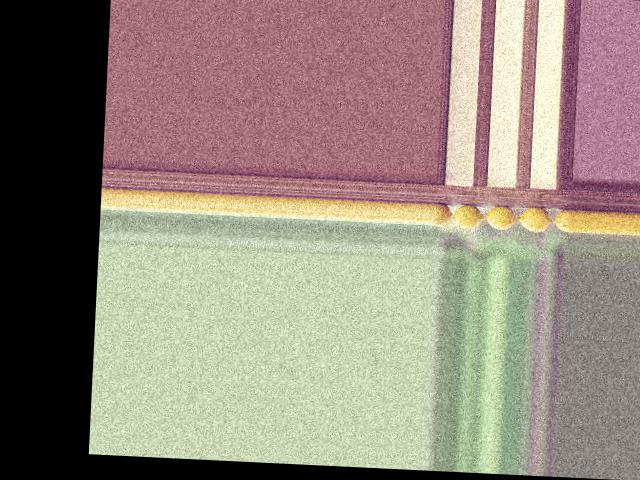lemon: (553, 209, 570, 233)
